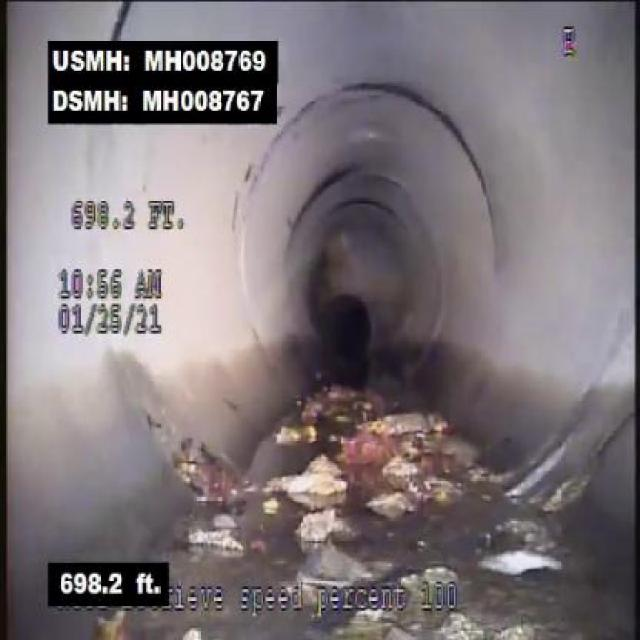Debris: (208, 423, 378, 551), (378, 423, 502, 515)
